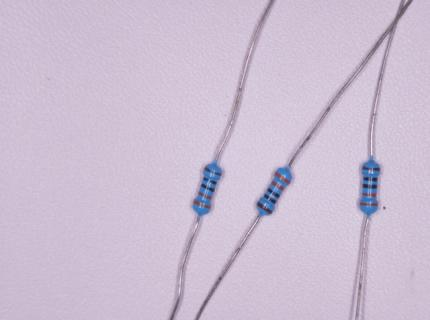Orange band: (274, 171, 291, 184), (194, 200, 210, 209), (271, 181, 284, 191), (198, 191, 211, 200), (362, 193, 376, 197), (360, 203, 378, 206)
